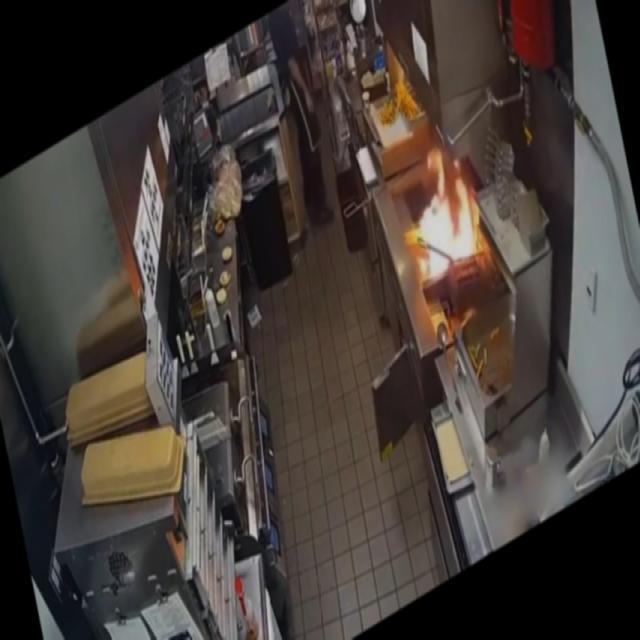fire: (394, 119, 503, 321)
